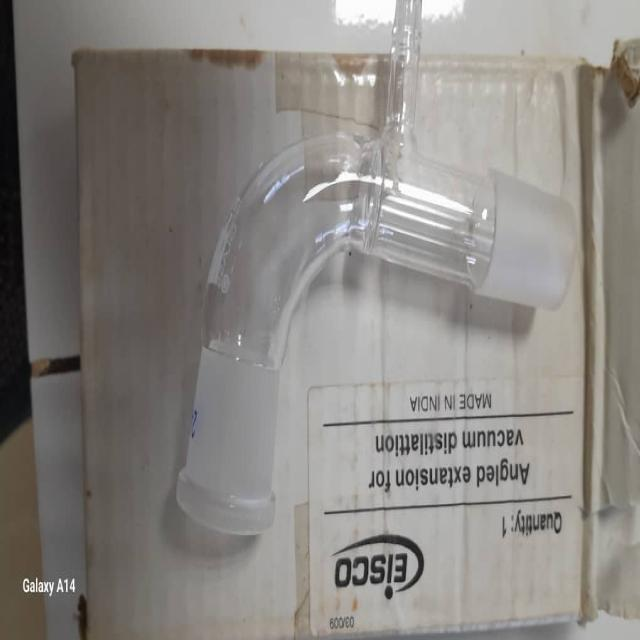Angled Extension for Vacuum Distillation: (174, 3, 580, 540)
